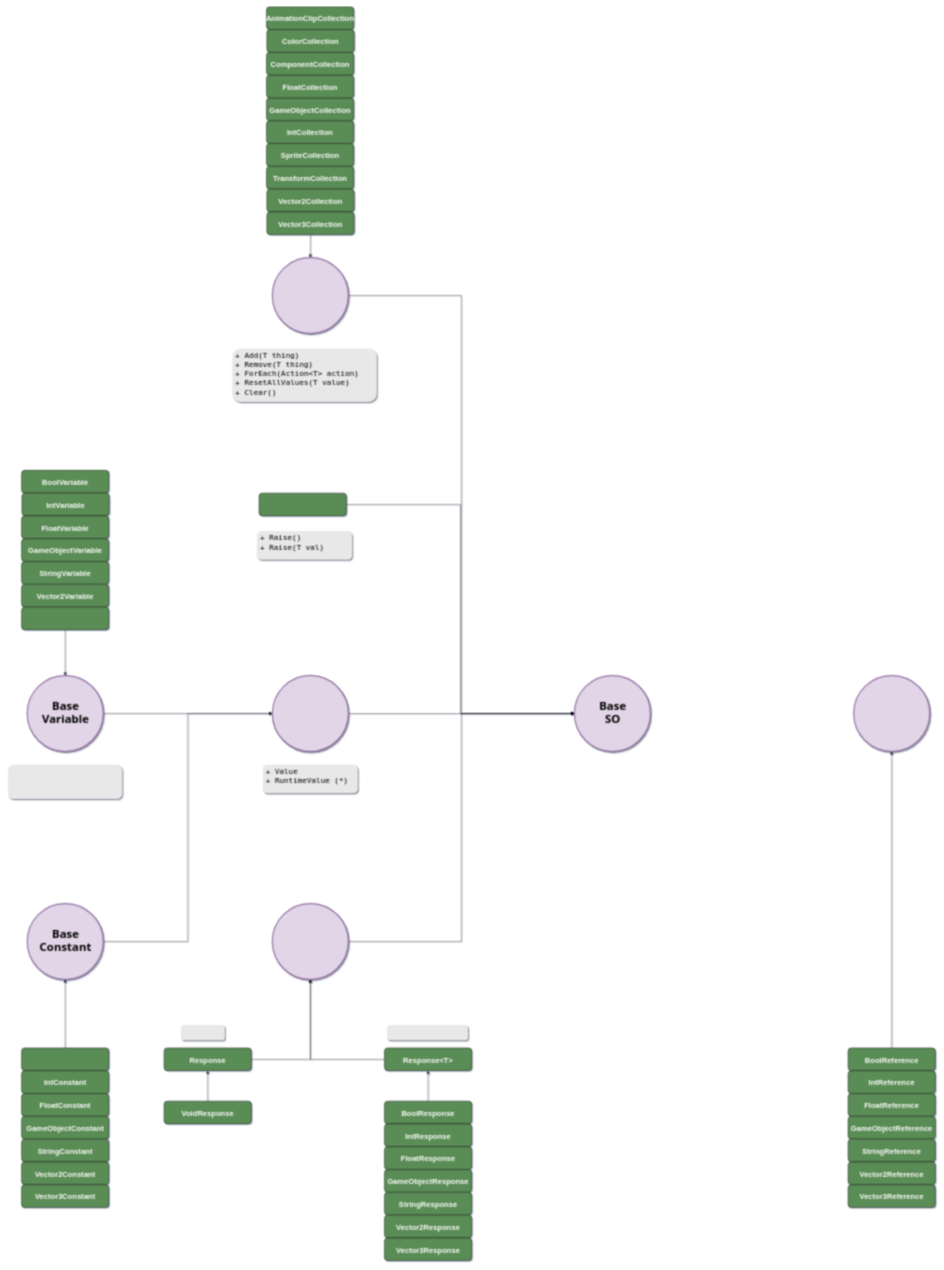
Image size: 944x1270. Some labels were removed from this diagram. Here are the shapes that lost their labels. From the top down, the centre of each, then its label:
At [310,295]: "Base Collection".
At [302,504]: "GameEvent".
At [65,618]: "Vector3Variable".
At [310,713]: "Base Value".
At [891,713]: "Base Reference".
At [65,782]: "+ OnChangedEvent + SetValue(TPlainType) + SetValue(BaseValueSO)".
At [310,941]: "Base Response".
At [203,1033]: "+ Send()".
At [428,1033]: "+ Send(T value)".
At [65,1059]: "BoolConstant".
